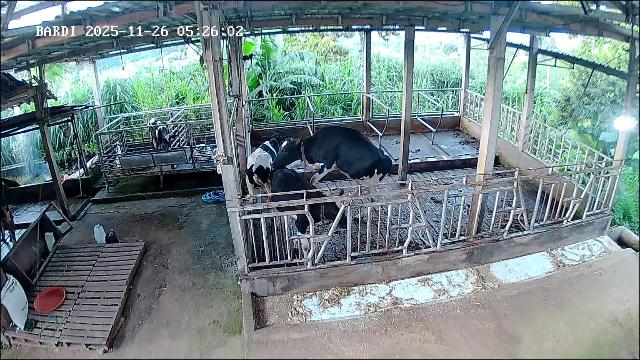mounting: (274, 124, 393, 219)
